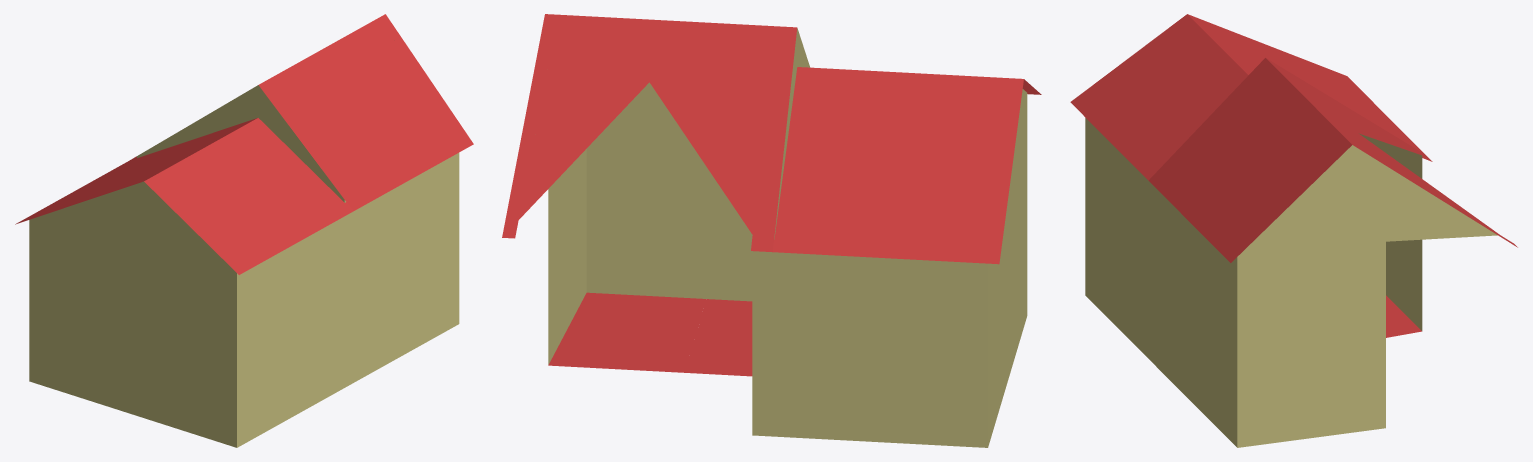
The picture shows the model from 3 angles, left to right: view 1: azimuth 30°, elevation 25°; view 2: azimuth 150°, elevation 25°; view 3: azimuth 270°, elevation 25°; orthographic projection. The views are drawn at different scales.
Size of the model in its own units: 21.49 by 19.36 by 13.95.
